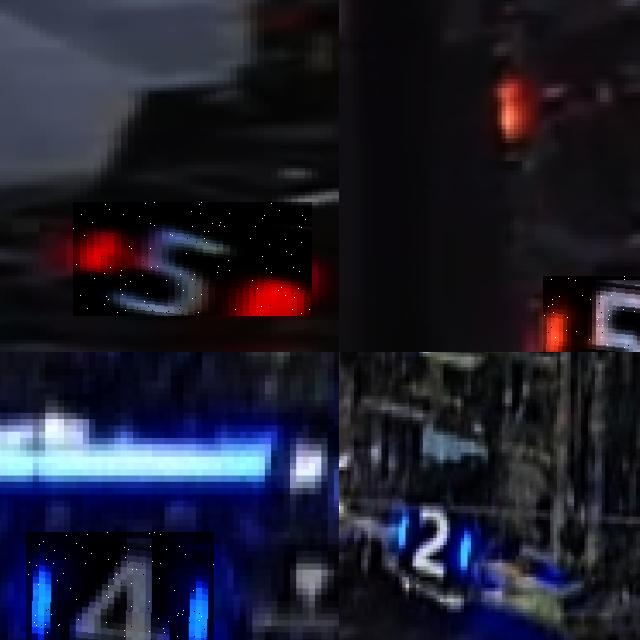B2: (394, 490, 469, 579)
B4: (26, 532, 214, 640)
R5: (73, 202, 312, 316), (542, 275, 640, 352)
